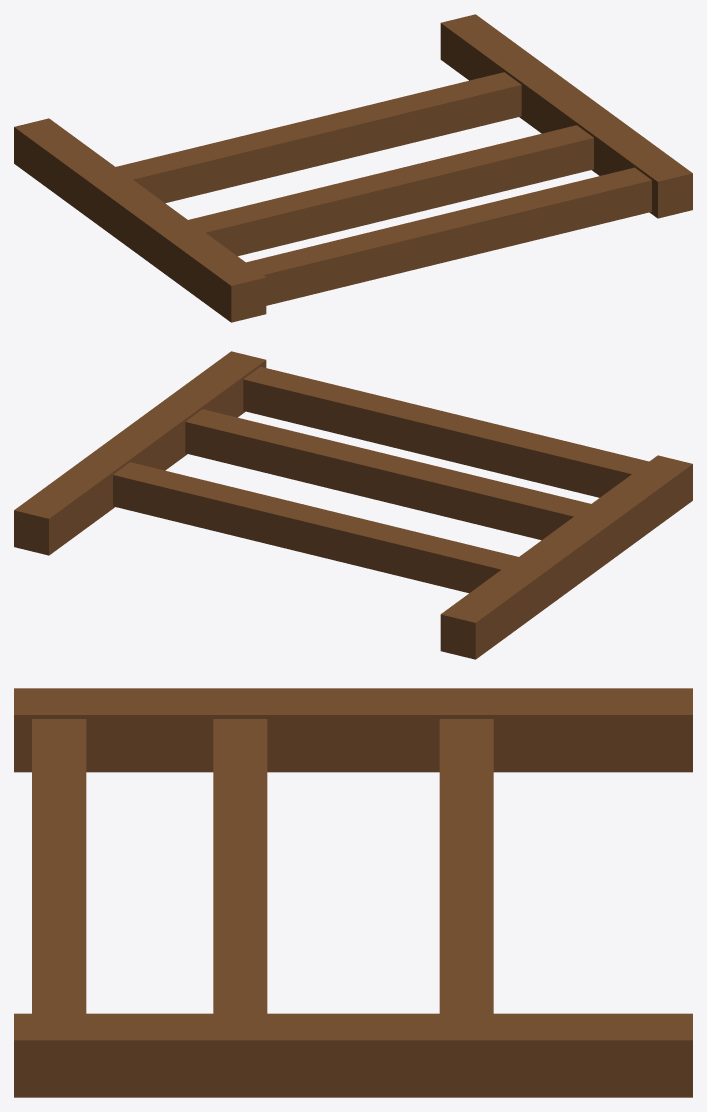
The model's file is SM_CommonFenceGate.obj.
The picture shows the model from 3 angles, top to bottom: view 1: azimuth 30°, elevation 25°; view 2: azimuth 150°, elevation 25°; view 3: azimuth 270°, elevation 25°; orthographic projection. The views are drawn at different scales.
Visible parts, largest first — view 1: SM_CommonFenceGate; view 2: SM_CommonFenceGate; view 3: SM_CommonFenceGate.
Boxes of the visible parts, left/top/right/bottom form: SM_CommonFenceGate: left=14, top=14, right=692, bottom=322; SM_CommonFenceGate: left=14, top=351, right=692, bottom=659; SM_CommonFenceGate: left=14, top=688, right=692, bottom=1097.
Bounding box in the file's own units: 184 × 14 × 150.
